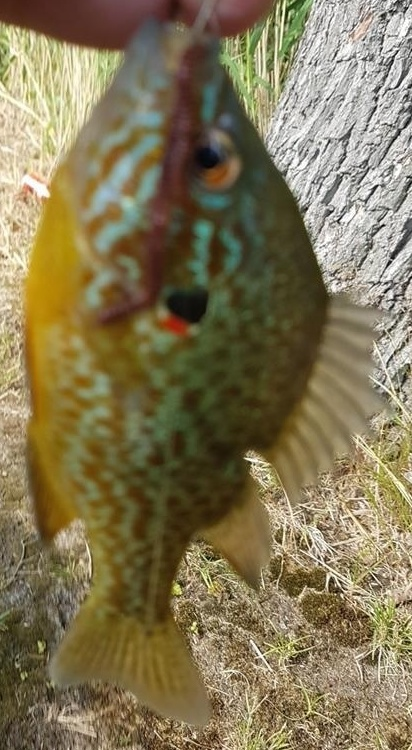Lepomis gibbosus: (20, 20, 392, 730)
